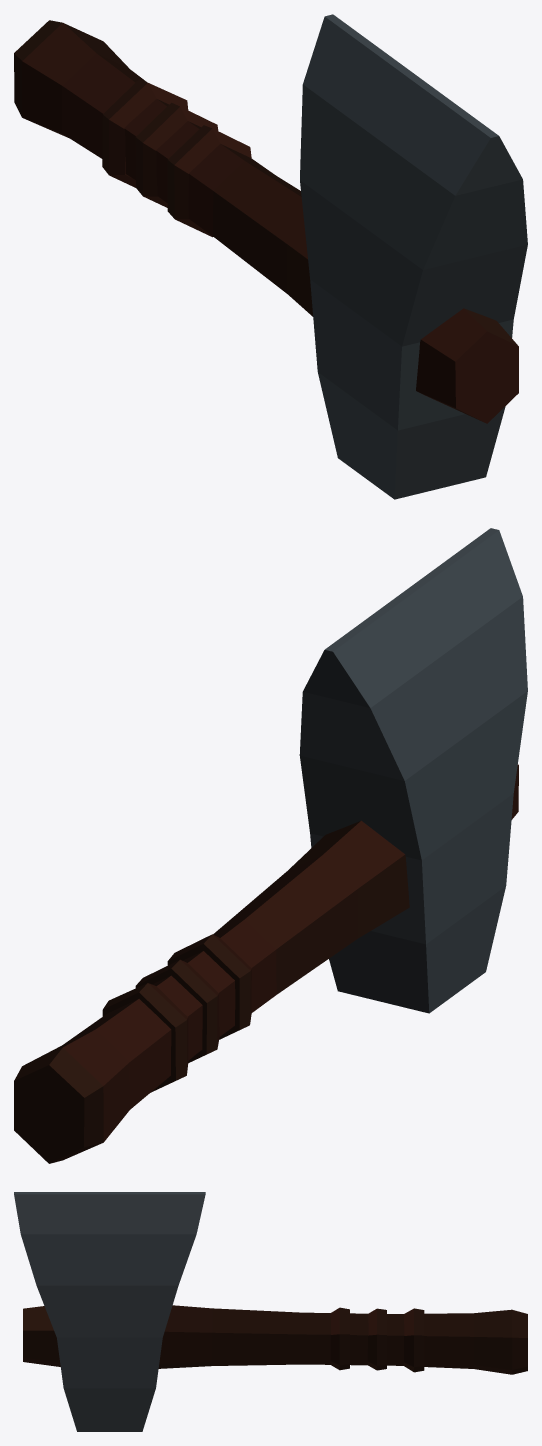
The model's file is axe_a.obj.
3 views of the same model, one above another, from view 1: azimuth 30°, elevation 25°; view 2: azimuth 150°, elevation 25°; view 3: azimuth 270°, elevation 25° (orthographic). The views are drawn at different scales.
Parts seen in each view (by area): view 1: head, handle; view 2: head, handle; view 3: head, handle.
Boxes of the visible parts, x1,y1,x2,y2 form: head: [300, 14, 527, 499]; handle: [14, 20, 518, 423]; head: [299, 528, 527, 1013]; handle: [14, 764, 518, 1163]; head: [14, 1192, 205, 1431]; handle: [23, 1305, 527, 1374].
Size of the model in its own units: 0.066 by 0.221 by 0.456.
